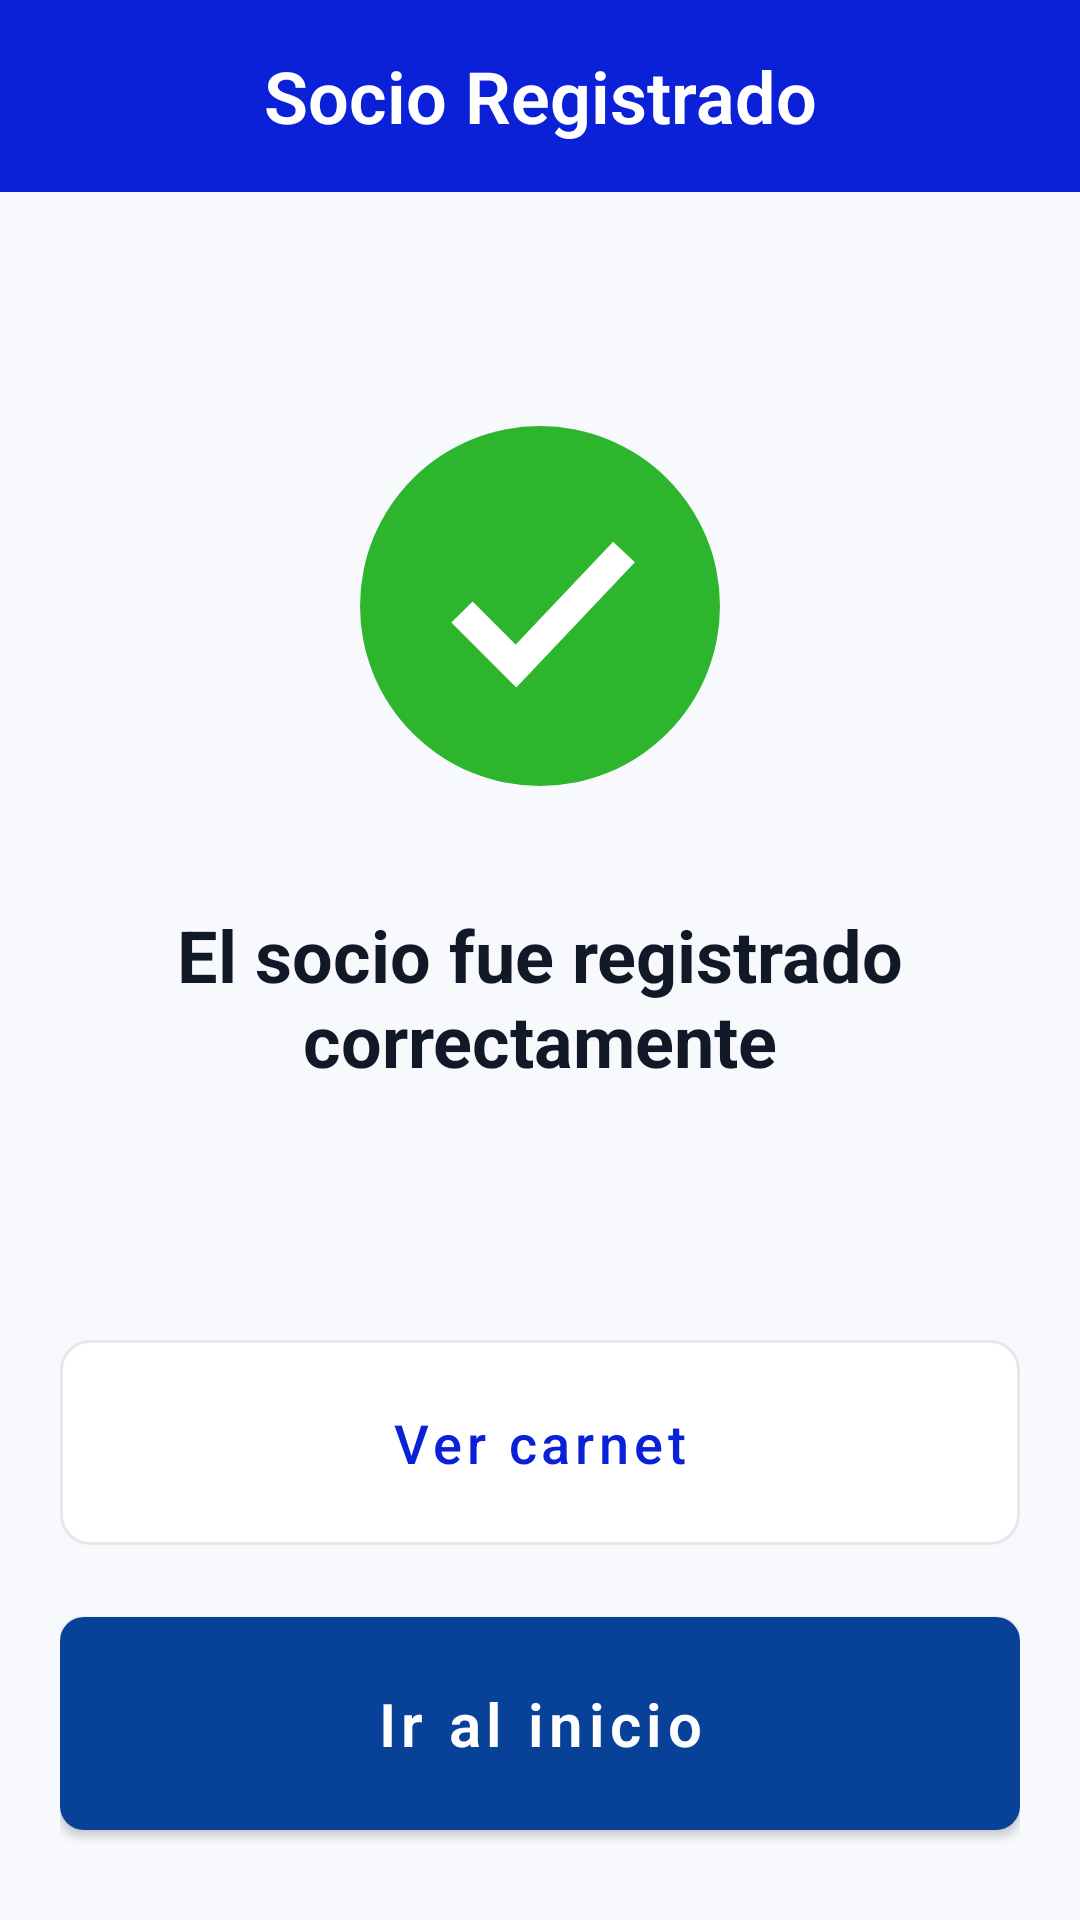

Icon click points for this 1080w x 1920h phone screenshot, format [x,y]:
Registro exitoso: [540,606]
